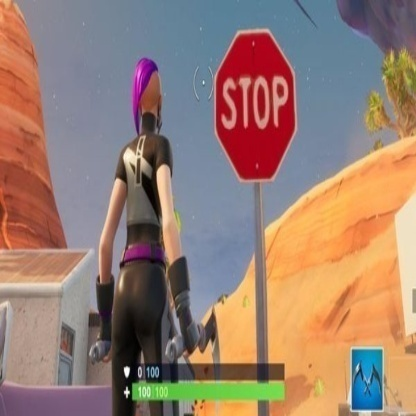stop: (214, 29, 297, 184)
